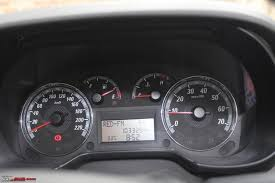Digital_Meter: (98, 120, 156, 141)
